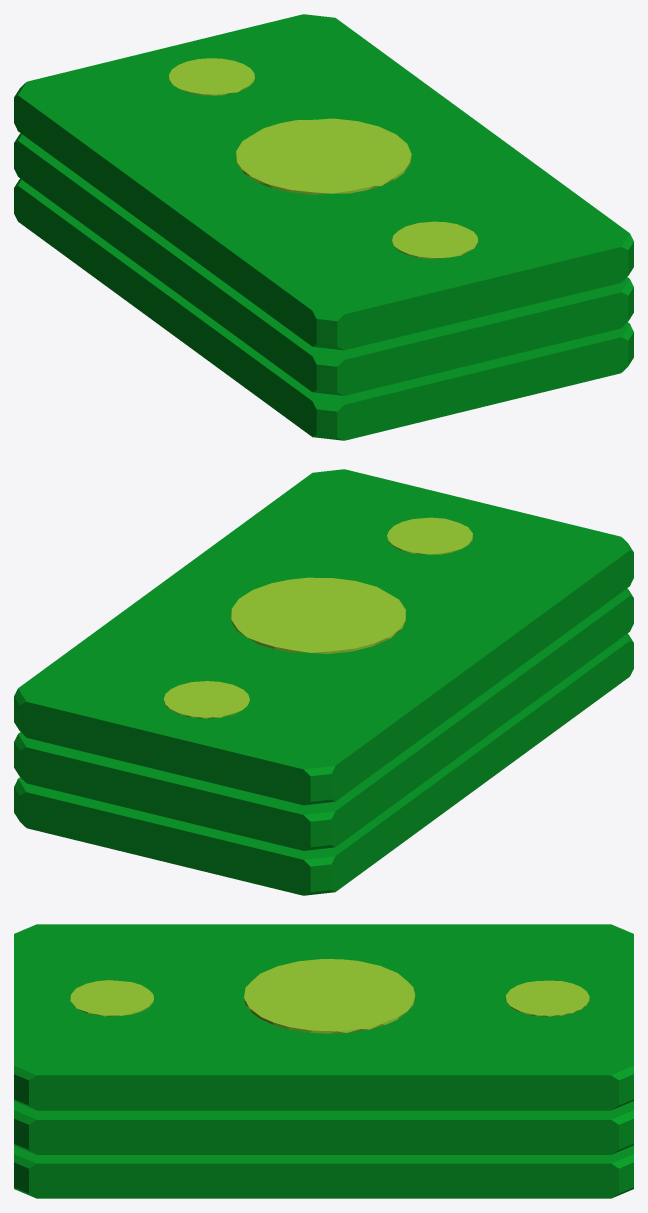
The model's file is Para.fbx.
3 views of the same model, one above another, from view 1: azimuth 30°, elevation 25°; view 2: azimuth 150°, elevation 25°; view 3: azimuth 270°, elevation 25° (orthographic). The views are drawn at different scales.
Parts seen in each view (by area): view 1: money1; view 2: money1; view 3: money1.
Part boxes in pixels (<box>): money1: <box>14,14,633,440</box>; money1: <box>14,469,633,895</box>; money1: <box>14,924,633,1198</box>.
Size of the model in its own units: 5.73 by 2.28 by 9.93.
